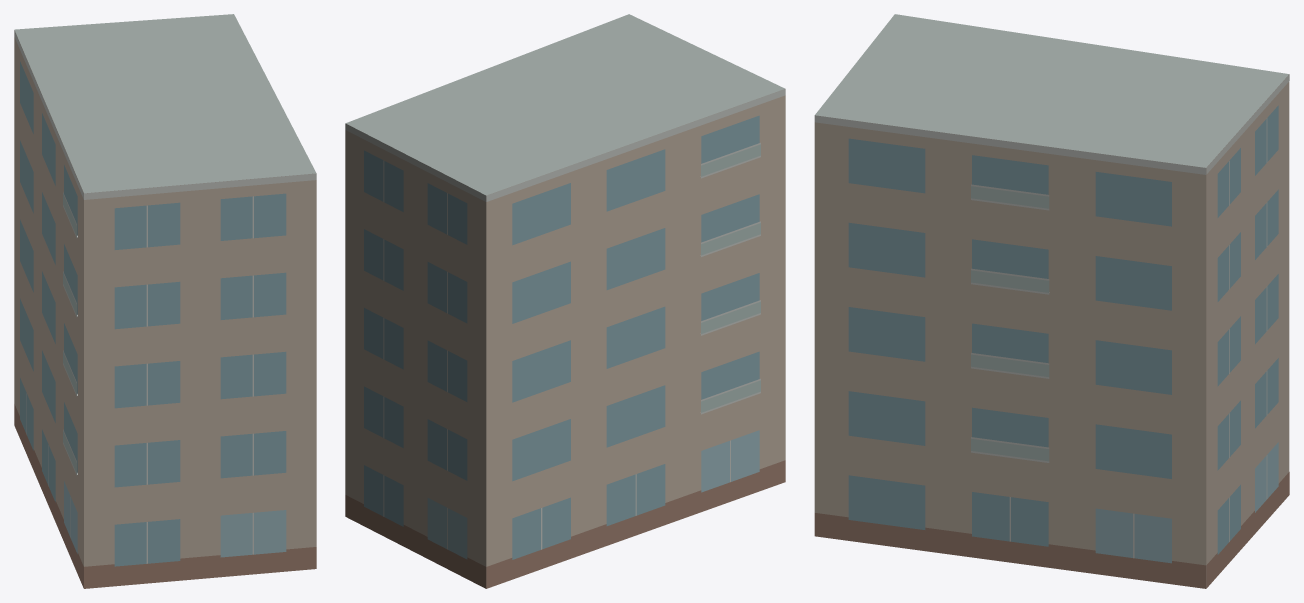
The model's file is survey-upis-32934165.glb.
3 renders of one model, left to right at view 1: azimuth 30°, elevation 25°; view 2: azimuth 150°, elevation 25°; view 3: azimuth 270°, elevation 25°, orthographic. The views are drawn at different scales.
Visible parts, largest first — view 1: survey-upis-32934165.tmp; view 2: survey-upis-32934165.tmp; view 3: survey-upis-32934165.tmp.
Part boxes in pixels (box(x1,y1,x2,y2)): survey-upis-32934165.tmp: box(14, 14, 316, 588); survey-upis-32934165.tmp: box(345, 14, 785, 588); survey-upis-32934165.tmp: box(814, 14, 1289, 588).
Bounding box in the file's own units: 11.42 × 14.55 × 14.88.
